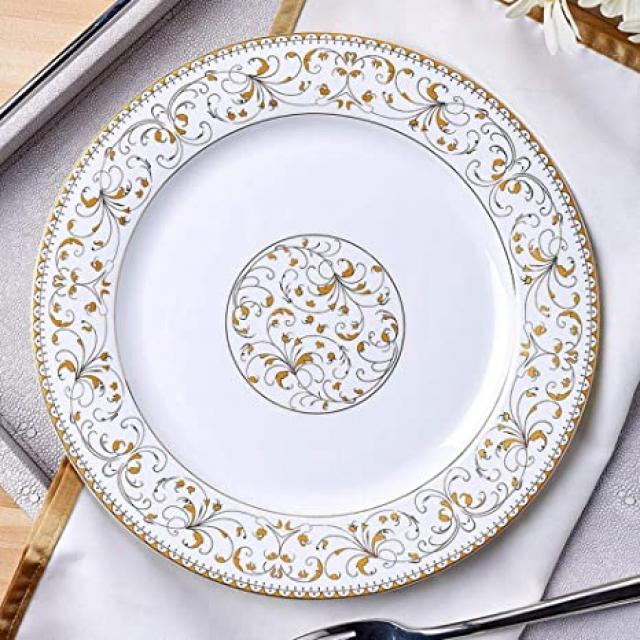non-organic waste: (14, 52, 589, 602)
